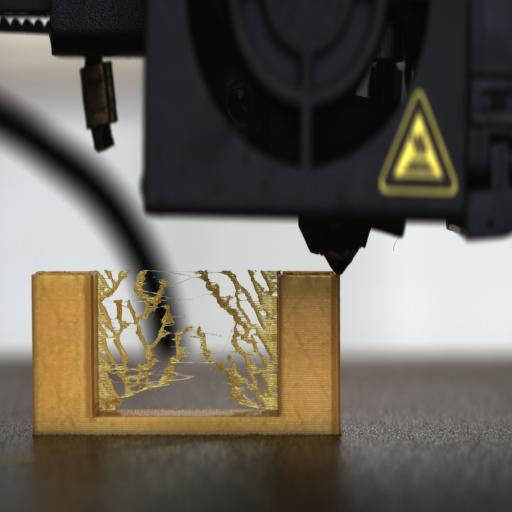stringing: (95, 268, 277, 410)
